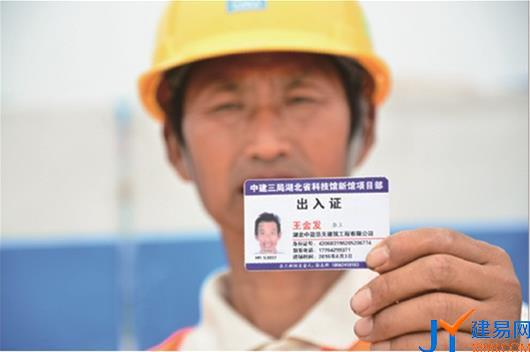helmet: (132, 0, 390, 239)
